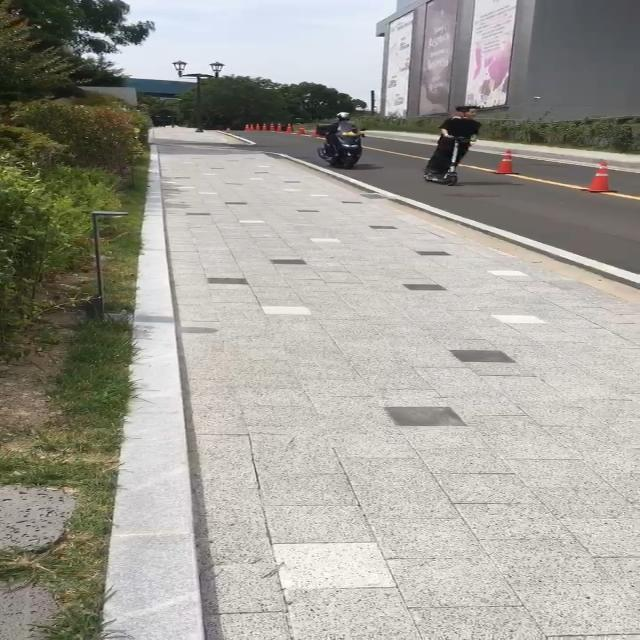obstacle: (404, 102, 496, 185), (310, 107, 373, 171), (570, 158, 627, 196), (489, 144, 526, 178)
road: (221, 125, 640, 304)
sidewalk: (102, 145, 640, 640), (477, 136, 640, 162), (153, 129, 253, 145)
